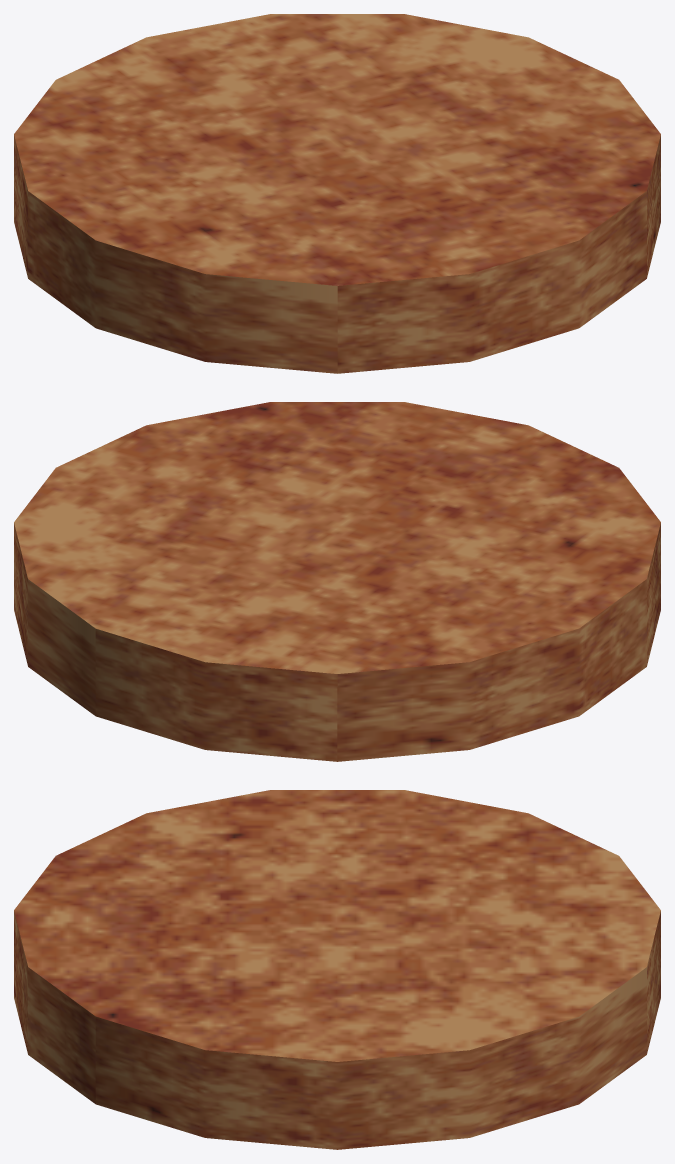
File: Hamburguesa.obj
The picture shows the model from 3 angles, top to bottom: view 1: azimuth 30°, elevation 25°; view 2: azimuth 150°, elevation 25°; view 3: azimuth 270°, elevation 25°; orthographic projection.
Visible parts, largest first — view 1: pCylinder1; view 2: pCylinder1; view 3: pCylinder1.
Part boxes in pixels (<box>): pCylinder1: <box>14,14,660,373</box>; pCylinder1: <box>14,402,660,761</box>; pCylinder1: <box>14,790,660,1149</box>.
Bounding box in the file's own units: 0.0665 × 0.01 × 0.0668.
1 material, 1 textured.
